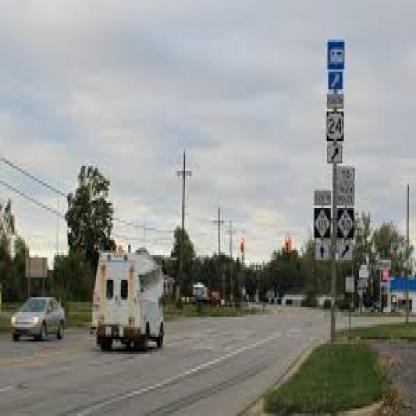car: (73, 232, 182, 374), (13, 281, 85, 358)
